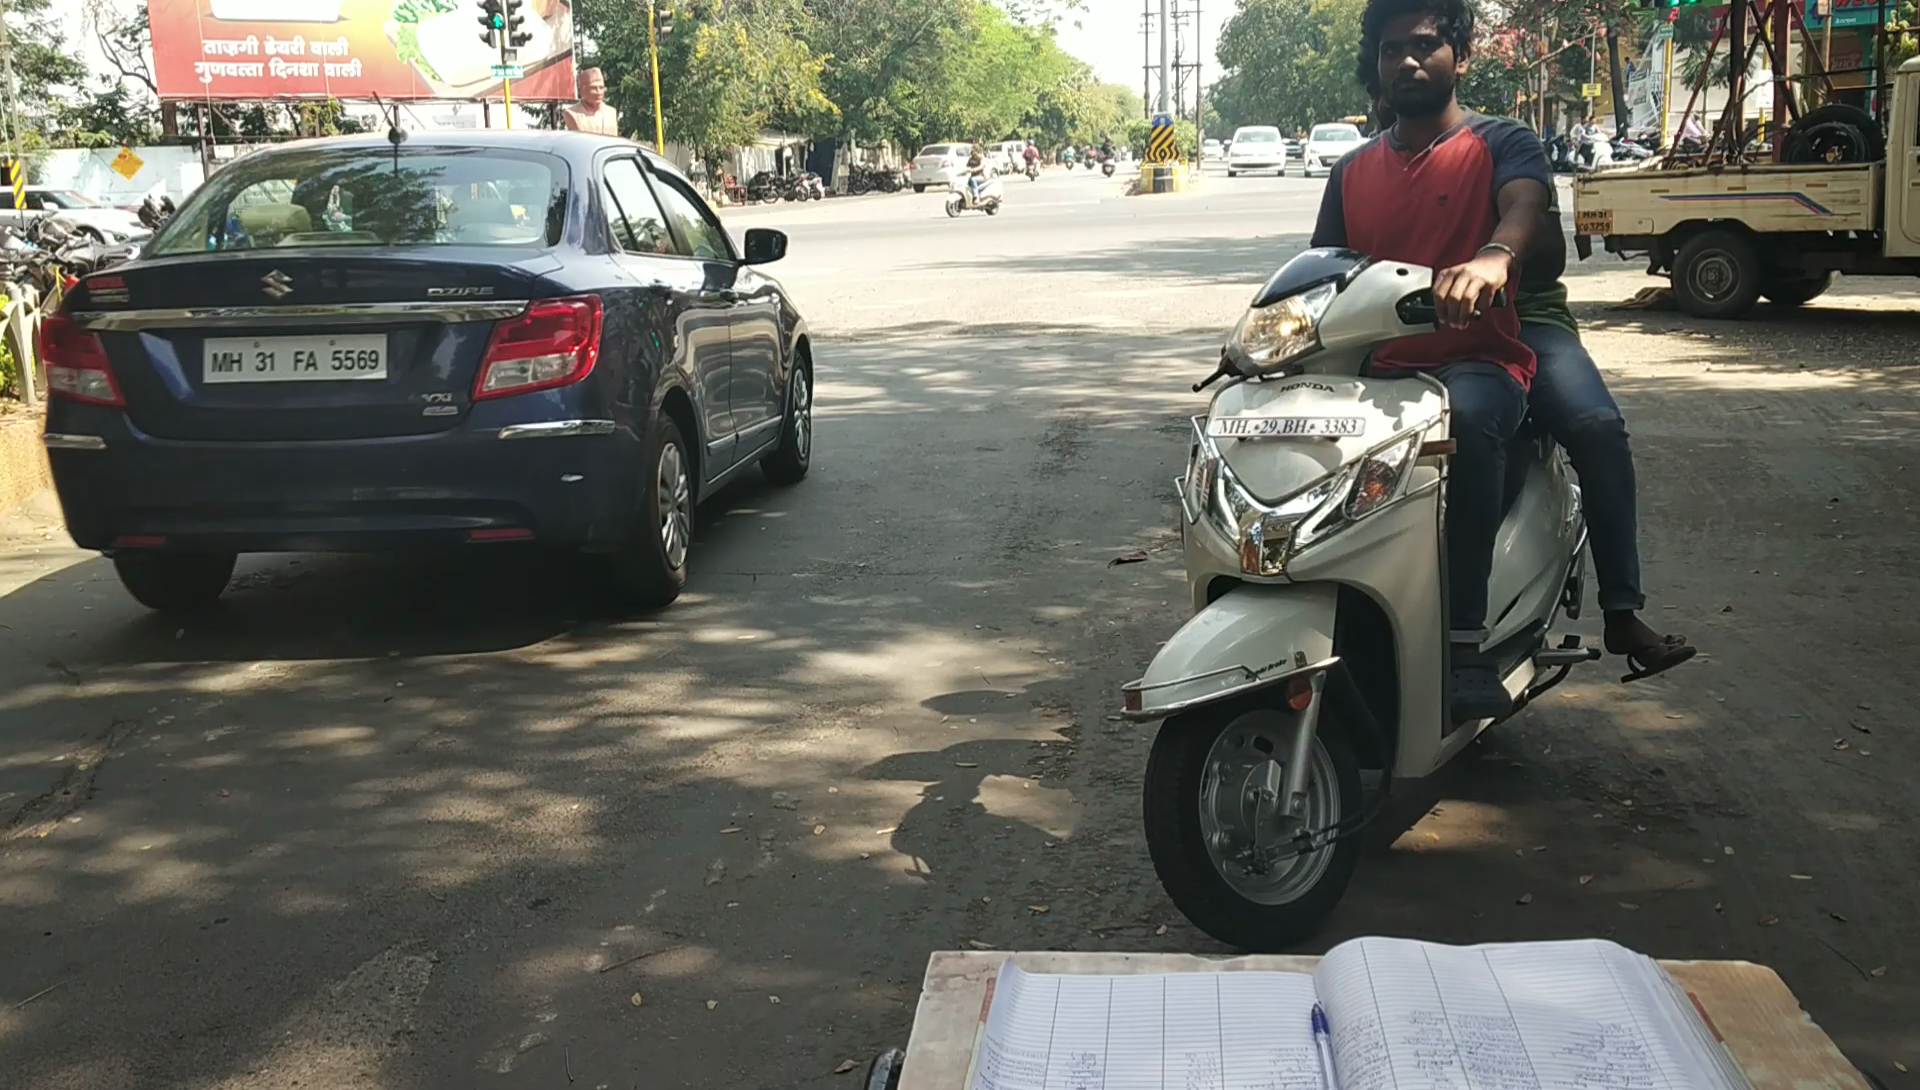car: (66, 119, 836, 644)
numplate: (203, 337, 403, 391)
